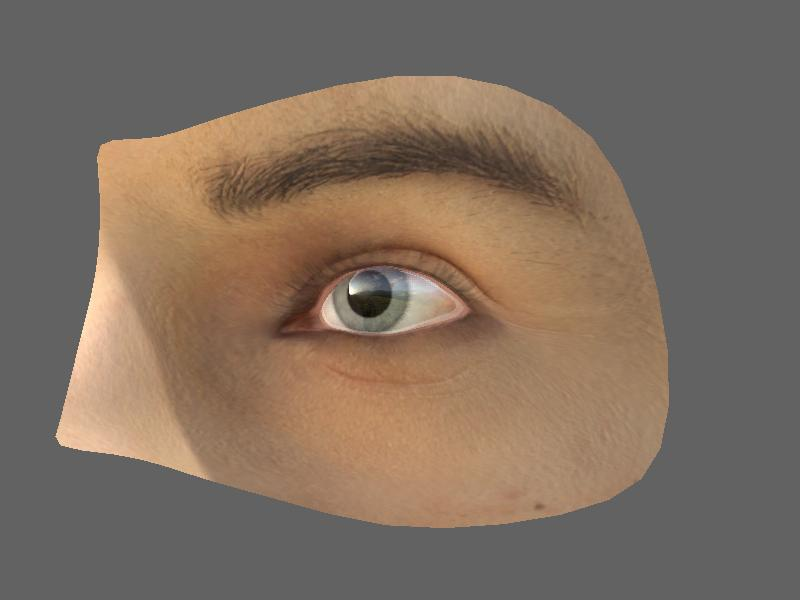iris: (328, 271, 409, 332)
